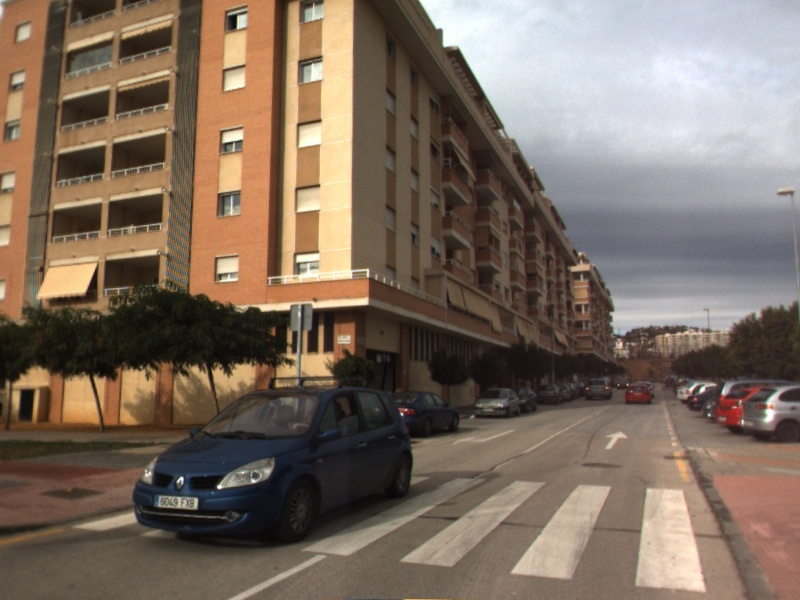STRAIGHT: (602, 429, 630, 451)
